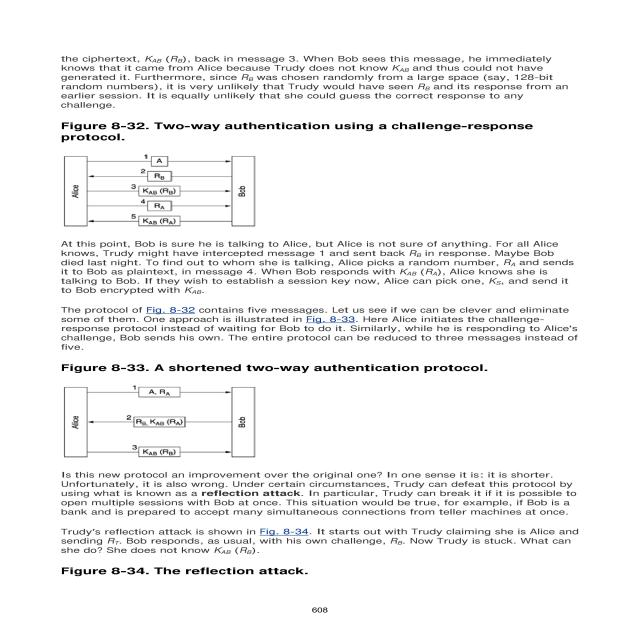diagram: (49, 119, 563, 237), (46, 354, 495, 464)
